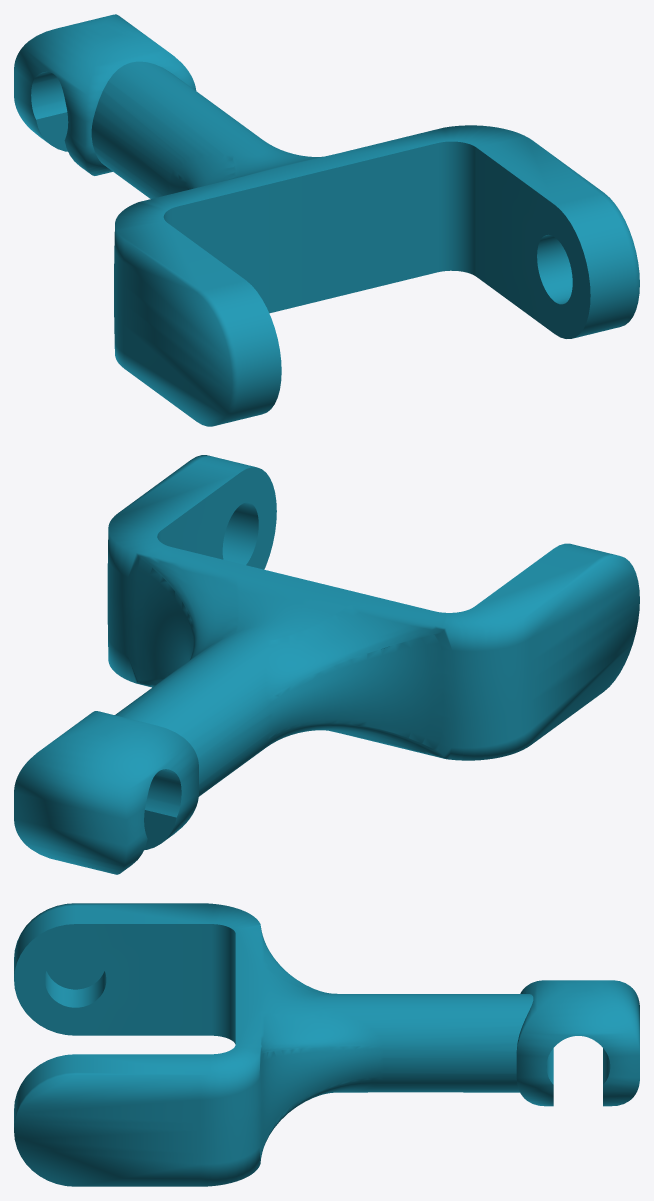
The model's file is waltlok.obj.
The picture shows the model from 3 angles, top to bottom: view 1: azimuth 30°, elevation 25°; view 2: azimuth 150°, elevation 25°; view 3: azimuth 270°, elevation 25°; orthographic projection. The views are drawn at different scales.
Visible parts, largest first — view 1: wal_tlok; view 2: wal_tlok; view 3: wal_tlok.
Part boxes in pixels (x1,y1,x2,y2): wal_tlok: (14, 14, 639, 426); wal_tlok: (14, 455, 639, 874); wal_tlok: (14, 903, 639, 1186).
Bounding box in the file's own units: 33 × 10 × 50.8.
